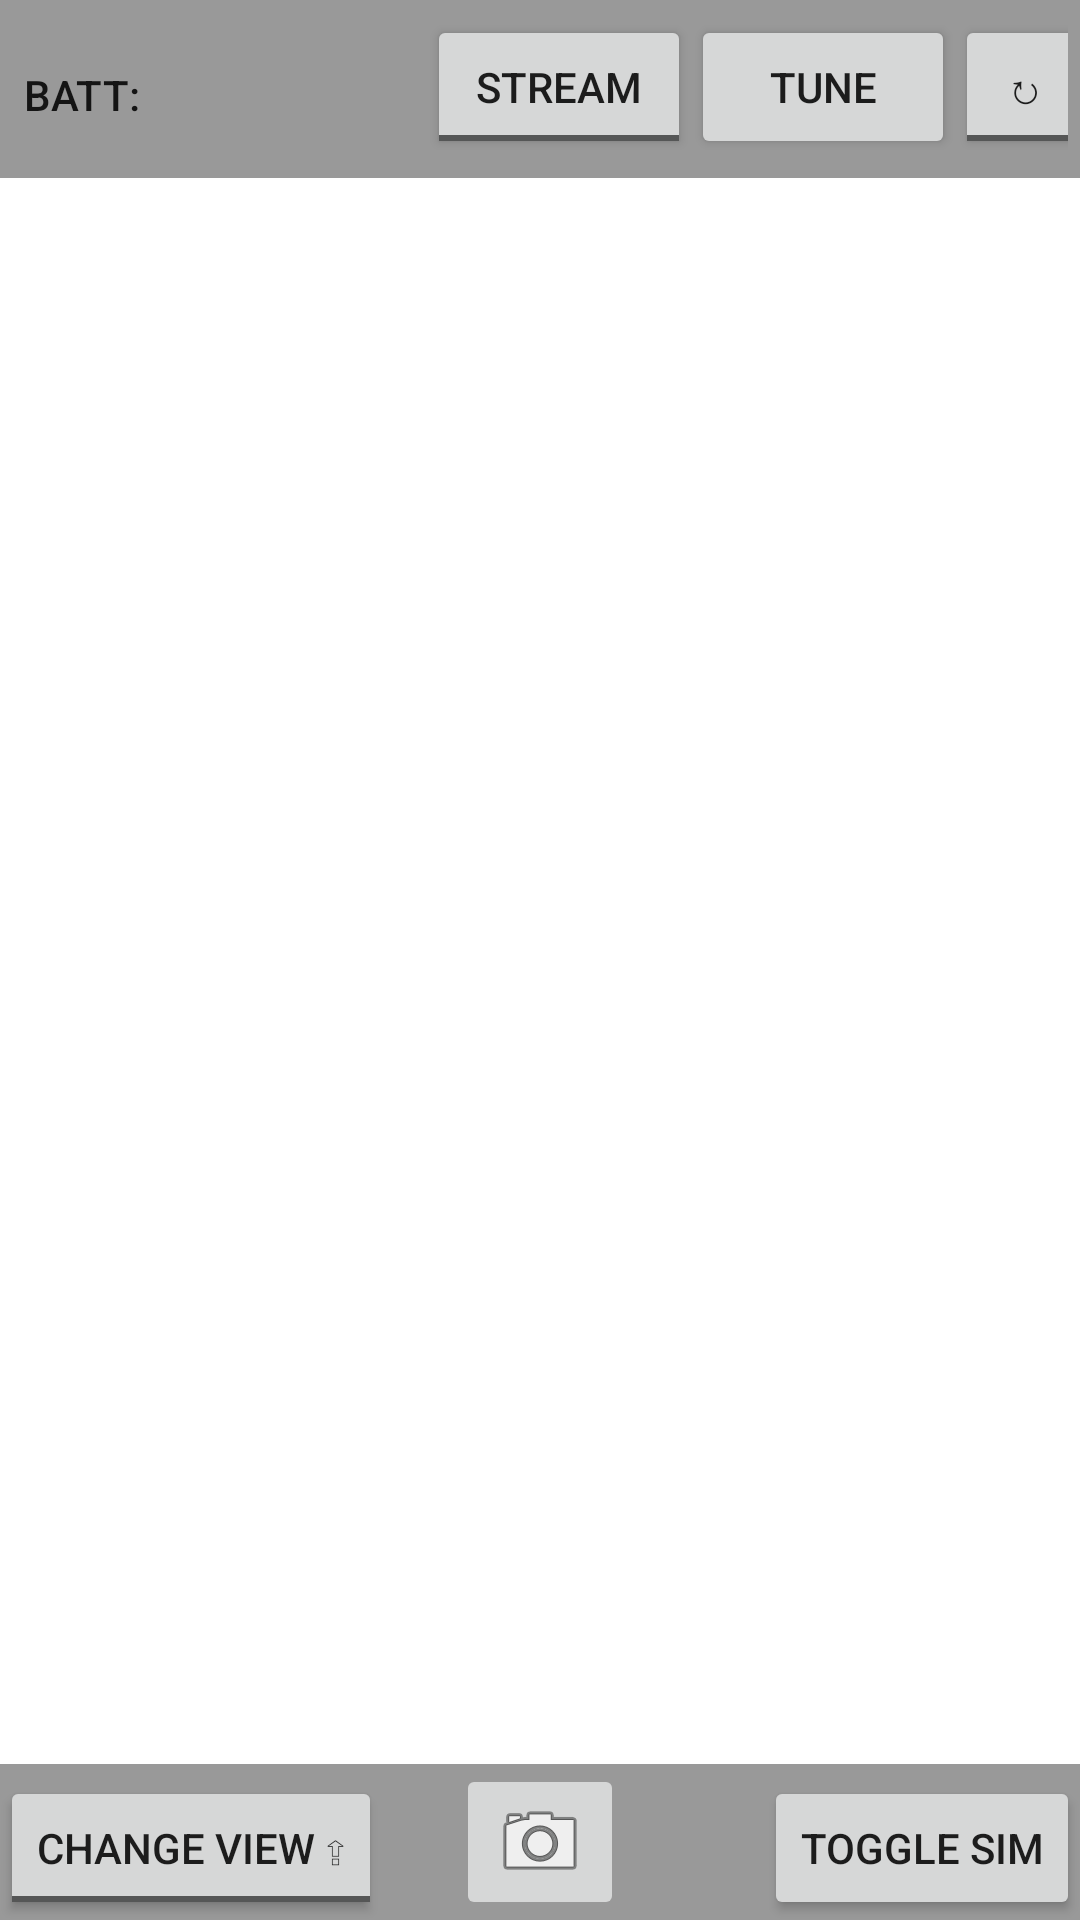

Locate icon controls on the screen. Image size 1080×1920, boxes as (x1, y1, x2, y2).
camera: (468, 1782, 612, 1902)
